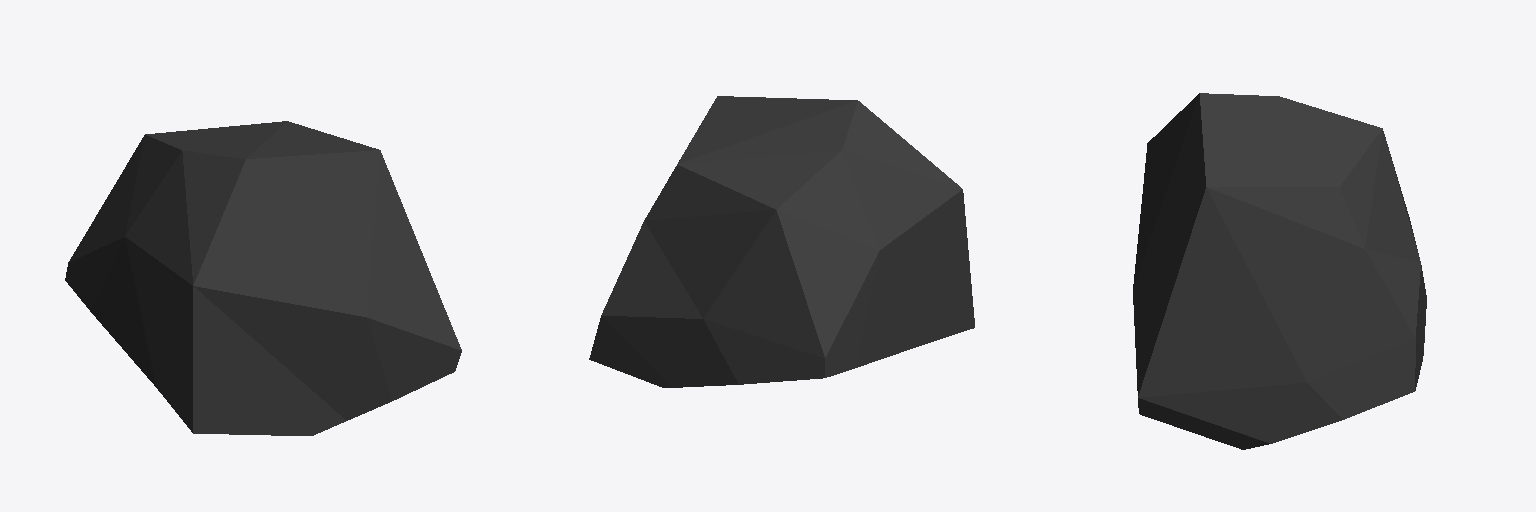
The model's file is stone_1.obj.
The picture shows the model from 3 angles: view 1: azimuth 30°, elevation 25°; view 2: azimuth 150°, elevation 25°; view 3: azimuth 270°, elevation 25°; orthographic projection.
Visible parts, largest first — view 1: Cube.005; view 2: Cube.005; view 3: Cube.005.
Part boxes in pixels (x1,y1,x2,y2): Cube.005: (65, 121, 461, 435); Cube.005: (589, 96, 974, 387); Cube.005: (1133, 93, 1426, 449).
Bounding box in the file's own units: 0.645 × 0.6314 × 0.6084.